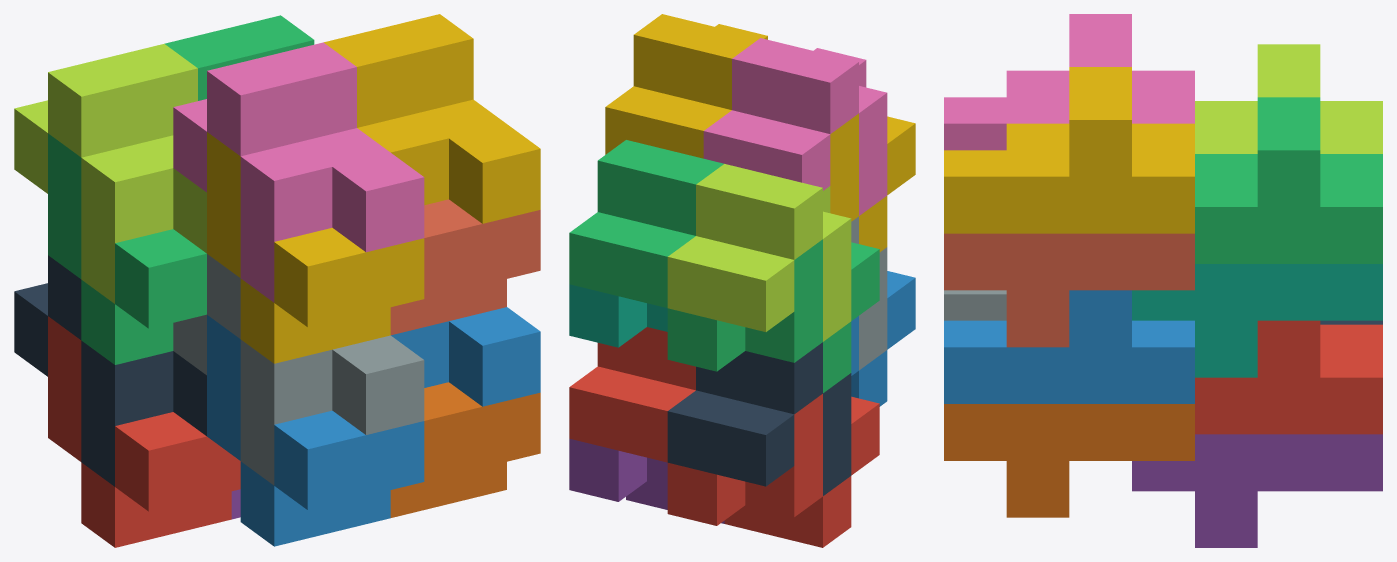
Rendered from tiling.obj.
The picture shows the model from 3 angles, left to right: view 1: azimuth 30°, elevation 25°; view 2: azimuth 150°, elevation 25°; view 3: azimuth 270°, elevation 25°; orthographic projection. The views are drawn at different scales.
Parts seen in each view (by area): view 1: copy_2_domain_4, copy_2_domain_3, copy_2_domain_8, copy_1_domain_2, copy_1_domain_4, copy_1_domain_1, copy_2_domain_2, copy_1_domain_3, copy_2_domain_1, copy_1_domain_6, copy_1_domain_8, copy_2_domain_6 (+1 smaller); view 2: copy_2_domain_3, copy_2_domain_4, copy_2_domain_1, copy_2_domain_7, copy_1_domain_1, copy_2_domain_8, copy_1_domain_3, copy_2_domain_5, copy_1_domain_4, copy_1_domain_5, copy_1_domain_7, copy_1_domain_2 (+1 smaller); view 3: copy_2_domain_8, copy_2_domain_7, copy_2_domain_6, copy_1_domain_8, copy_1_domain_6, copy_2_domain_5, copy_1_domain_5, copy_1_domain_7, copy_2_domain_4, copy_2_domain_3, copy_2_domain_2.
Part boxes in pixels (x1=…): copy_2_domain_4: x1=173, y1=42, x2=424, y2=302; copy_2_domain_3: x1=14, y1=44, x2=206, y2=303; copy_2_domain_8: x1=324, y1=14, x2=540, y2=223; copy_1_domain_2: x1=207, y1=315, x2=424, y2=546; copy_1_domain_4: x1=207, y1=132, x2=424, y2=363; copy_1_domain_1: x1=48, y1=316, x2=240, y2=547; copy_2_domain_2: x1=173, y1=254, x2=424, y2=485; copy_1_domain_3: x1=48, y1=133, x2=206, y2=364; copy_2_domain_1: x1=14, y1=255, x2=206, y2=486; copy_1_domain_6: x1=390, y1=382, x2=540, y2=517; copy_1_domain_8: x1=390, y1=199, x2=540, y2=335; copy_2_domain_6: x1=391, y1=307, x2=540, y2=406; copy_2_domain_3: x1=667, y1=164, x2=851, y2=341; copy_2_domain_4: x1=703, y1=38, x2=887, y2=215; copy_2_domain_1: x1=667, y1=342, x2=851, y2=495; copy_2_domain_7: x1=569, y1=140, x2=723, y2=307; copy_1_domain_1: x1=667, y1=394, x2=879, y2=547; copy_2_domain_8: x1=605, y1=14, x2=767, y2=158; copy_1_domain_3: x1=667, y1=239, x2=879, y2=392; copy_2_domain_5: x1=569, y1=327, x2=695, y2=462; copy_1_domain_4: x1=830, y1=113, x2=915, y2=251; copy_1_domain_5: x1=569, y1=438, x2=724, y2=523; copy_1_domain_7: x1=569, y1=284, x2=667, y2=347; copy_1_domain_2: x1=851, y1=271, x2=915, y2=406; copy_2_domain_8: x1=944, y1=67, x2=1194, y2=233; copy_2_domain_7: x1=1195, y1=97, x2=1382, y2=263; copy_2_domain_6: x1=944, y1=290, x2=1194, y2=403; copy_1_domain_8: x1=944, y1=233, x2=1194, y2=347; copy_1_domain_6: x1=944, y1=404, x2=1194, y2=517; copy_2_domain_5: x1=1195, y1=320, x2=1382, y2=434; copy_1_domain_5: x1=1132, y1=434, x2=1382, y2=547; copy_1_domain_7: x1=1132, y1=264, x2=1382, y2=377; copy_2_domain_4: x1=944, y1=14, x2=1194, y2=150; copy_2_domain_3: x1=1195, y1=44, x2=1382, y2=153; copy_2_domain_2: x1=944, y1=290, x2=1006, y2=320.
Size of the model in its own units: 5 by 8 by 7.
